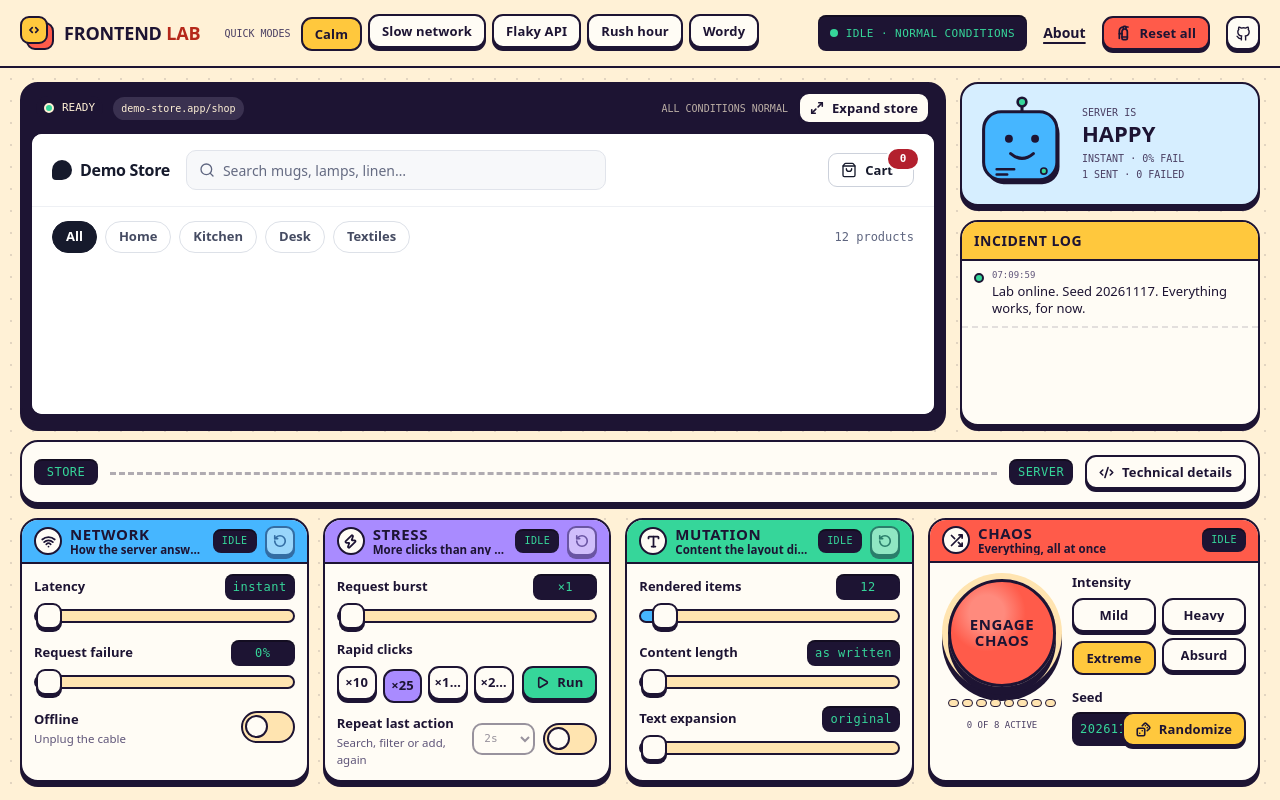
Test case: Playground › reset all cancels work, clears conditions and empties the cart
Step 1. Click the button "Rush hour" → (635, 31), box [587,14,683,48]
Wait 2000 ms
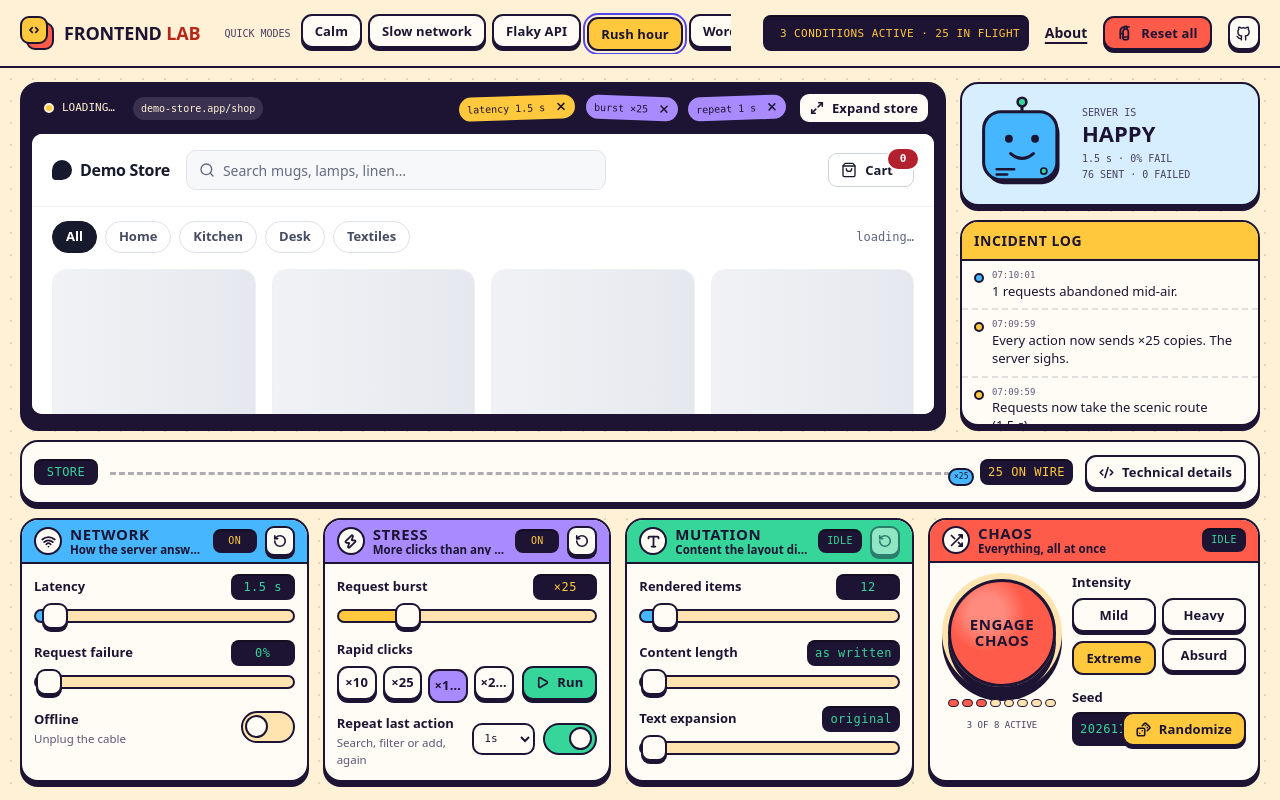
×100 clicks at 28 ms with 1.5 s latency: some adds land, many are pending, most not yet fired.
Step 2. Click the button with aria-label "Simulate 100 rapid clicks" → (560, 682), box [522,666,597,700]
Wait 2000 ms
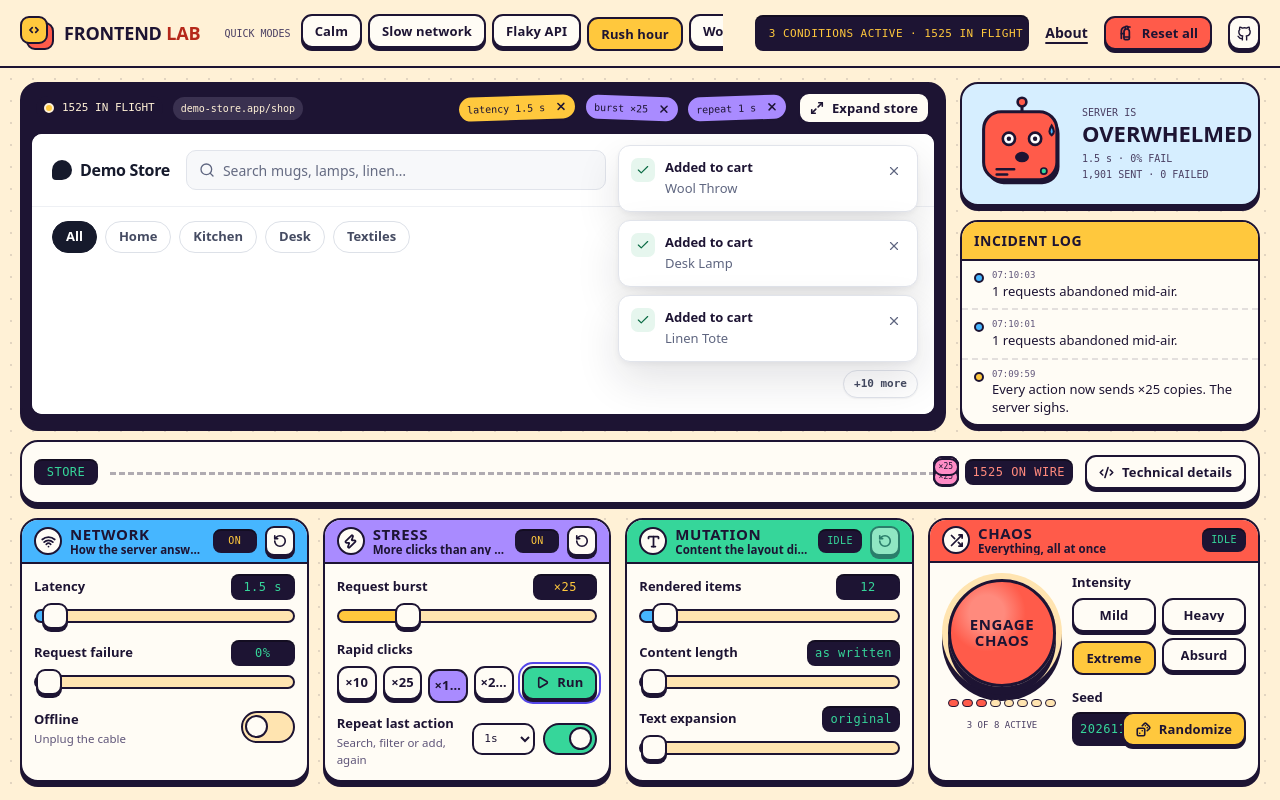
Check: the button "Cart 12" is shown, box [828,153,914,187]
Step 3. Click the button with aria-label "Reset all conditions" → (1158, 33), box [1104,16,1212,50]
Wait 10001 ms
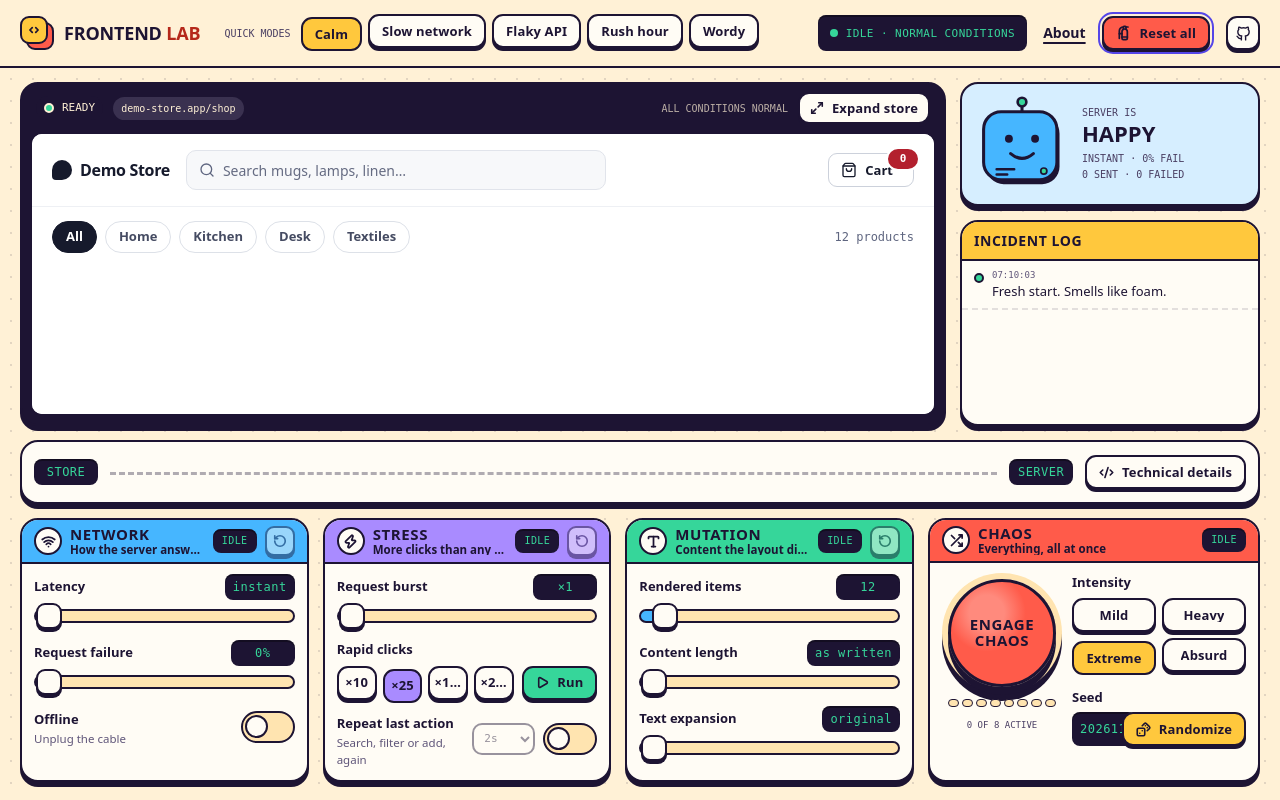
Check: the text "Fresh start. Smells like foam." is shown, box [992,282,1166,300]
Check: the message reads "Idle · normal conditions", box [846,26,1015,40]
Check: the button with aria-label "Cart, 0 items" is shown, box [828,153,914,187]
